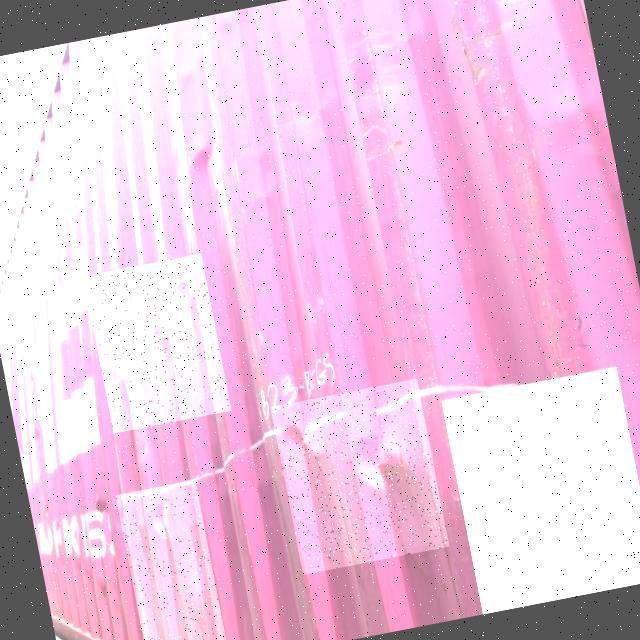Dent: (271, 379, 450, 575)
Minor-Dent: (84, 254, 232, 434), (116, 480, 231, 640)
